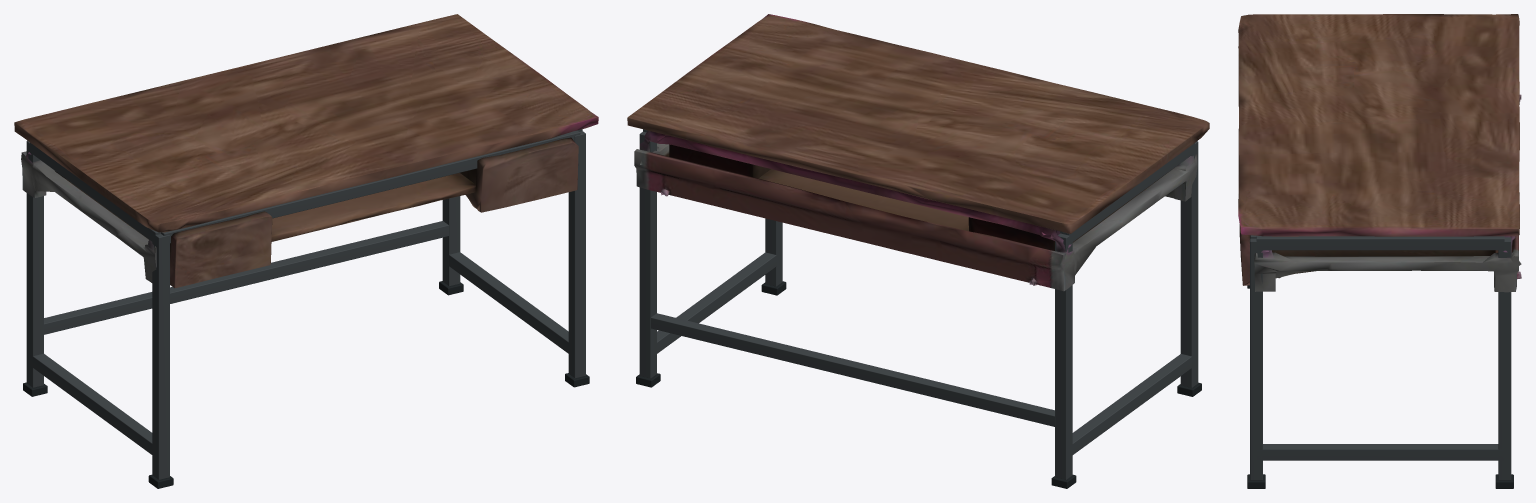
Rendered from 22_office_desk.glb.
The picture shows the model from 3 angles, left to right: view 1: azimuth 30°, elevation 25°; view 2: azimuth 150°, elevation 25°; view 3: azimuth 270°, elevation 25°; orthographic projection.
Visible parts, largest first — view 1: TRIPO_RETAINED_WOOD_TOP_DRAWERS, LOCAL_desk_rear_crossbar, LOCAL_desk_square_tube_leg.001, LOCAL_desk_square_tube_leg.003, LOCAL_desk_front_upper_rail, LOCAL_desk_square_tube_leg, LOCAL_desk_side_lower_rail.001, LOCAL_desk_side_lower_rail, LOCAL_desk_side_upper_rail, LOCAL_desk_square_tube_leg.002; view 2: TRIPO_RETAINED_WOOD_TOP_DRAWERS, LOCAL_desk_rear_crossbar, LOCAL_desk_square_tube_leg.001, LOCAL_desk_square_tube_leg, LOCAL_desk_square_tube_leg.002, LOCAL_desk_side_lower_rail, LOCAL_desk_side_lower_rail.001, LOCAL_desk_side_upper_rail, LOCAL_desk_square_tube_leg.003; view 3: TRIPO_RETAINED_WOOD_TOP_DRAWERS, LOCAL_desk_side_lower_rail.001, LOCAL_desk_side_upper_rail.001, LOCAL_desk_square_tube_leg.002, LOCAL_desk_square_tube_leg.003.
Part boxes in pixels (bbox=[...]): TRIPO_RETAINED_WOOD_TOP_DRAWERS: bbox=[14, 14, 598, 288]; LOCAL_desk_rear_crossbar: bbox=[44, 221, 448, 334]; LOCAL_desk_square_tube_leg.001: bbox=[152, 234, 169, 479]; LOCAL_desk_square_tube_leg.003: bbox=[568, 131, 585, 378]; LOCAL_desk_front_upper_rail: bbox=[161, 130, 580, 243]; LOCAL_desk_square_tube_leg: bbox=[26, 140, 43, 387]; LOCAL_desk_side_lower_rail.001: bbox=[446, 252, 569, 353]; LOCAL_desk_side_lower_rail: bbox=[30, 353, 154, 454]; LOCAL_desk_side_upper_rail: bbox=[30, 142, 160, 243]; LOCAL_desk_square_tube_leg.002: bbox=[442, 196, 460, 286]; TRIPO_RETAINED_WOOD_TOP_DRAWERS: bbox=[627, 14, 1209, 291]; LOCAL_desk_rear_crossbar: bbox=[651, 313, 1054, 426]; LOCAL_desk_square_tube_leg.001: bbox=[1180, 141, 1198, 387]; LOCAL_desk_square_tube_leg: bbox=[1055, 233, 1072, 479]; LOCAL_desk_square_tube_leg.002: bbox=[639, 131, 656, 378]; LOCAL_desk_side_lower_rail: bbox=[1070, 354, 1194, 456]; LOCAL_desk_side_lower_rail.001: bbox=[657, 252, 779, 353]; LOCAL_desk_side_upper_rail: bbox=[1059, 143, 1194, 243]; LOCAL_desk_square_tube_leg.003: bbox=[765, 218, 782, 286]; TRIPO_RETAINED_WOOD_TOP_DRAWERS: bbox=[1238, 14, 1521, 292]; LOCAL_desk_side_lower_rail.001: bbox=[1257, 444, 1503, 460]; LOCAL_desk_side_upper_rail.001: bbox=[1256, 235, 1504, 250]; LOCAL_desk_square_tube_leg.002: bbox=[1498, 237, 1511, 480]; LOCAL_desk_square_tube_leg.003: bbox=[1250, 236, 1262, 480].
Bounding box in the file's own units: 1.25 × 0.72 × 0.7.
Materials: 3 (1 with a texture image).
